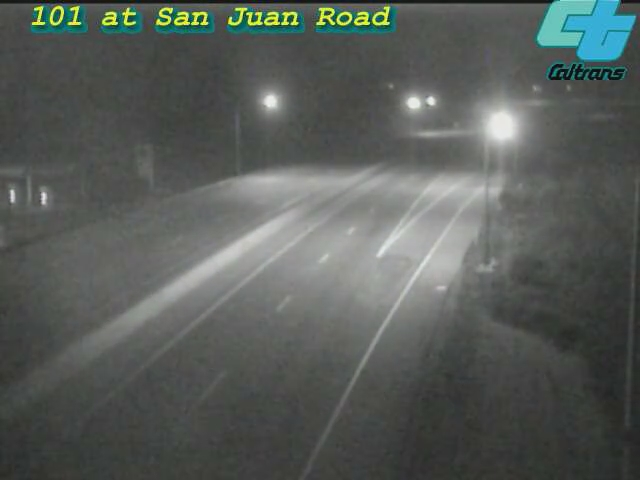vehicle: (469, 104, 519, 154)
